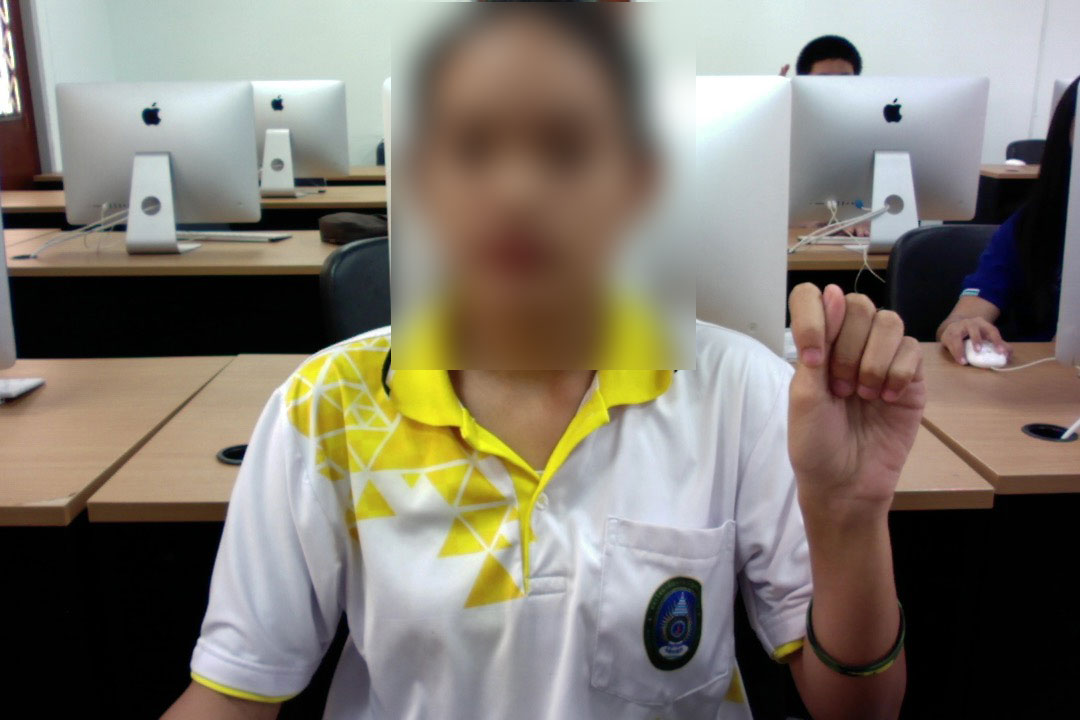tor: (780, 278, 930, 524)
